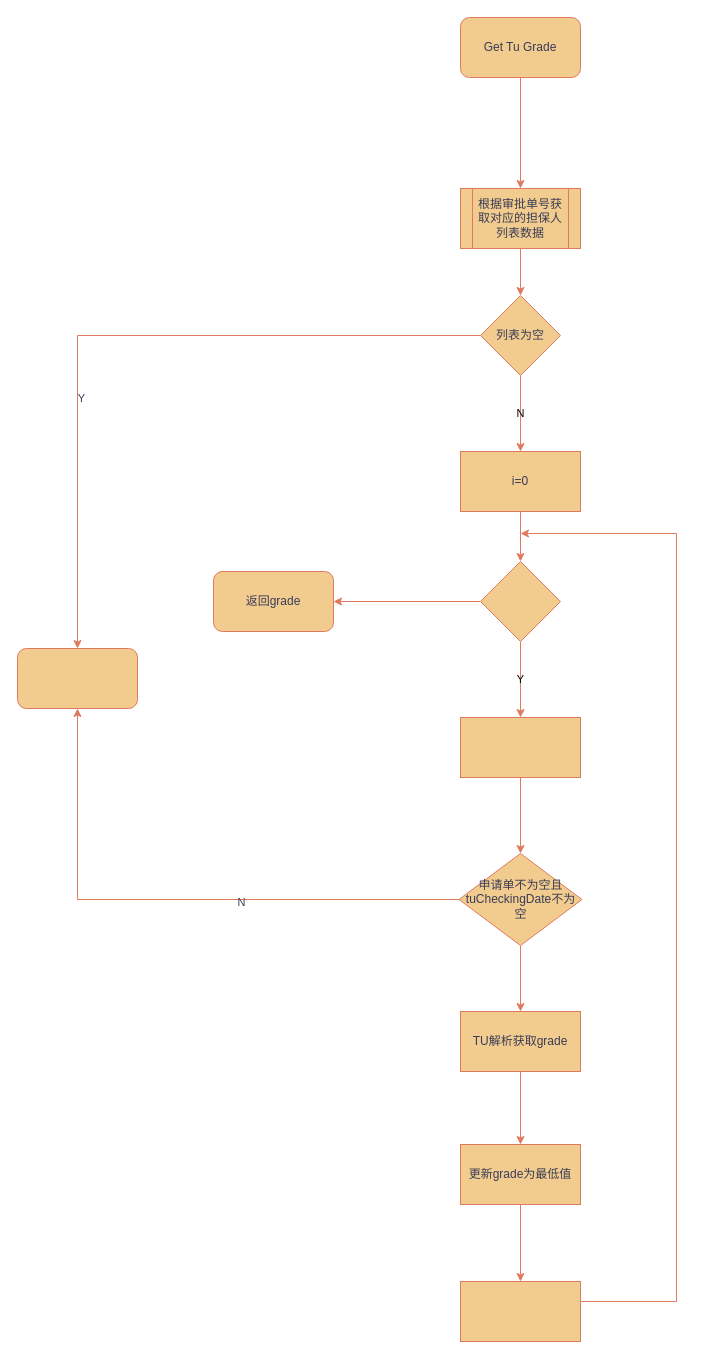
Some shapes in this 702 by 1359 pixel diagram are drawn without their labels. The box of each missing label's shape, as (x1, y1, x2, y2) in pixels:
++i: (460, 1280, 580, 1342)
i<列表个数: (480, 560, 560, 642)
抛异常提示: (16, 648, 138, 708)
根据idNumber查询TU申请单: (460, 716, 580, 778)
